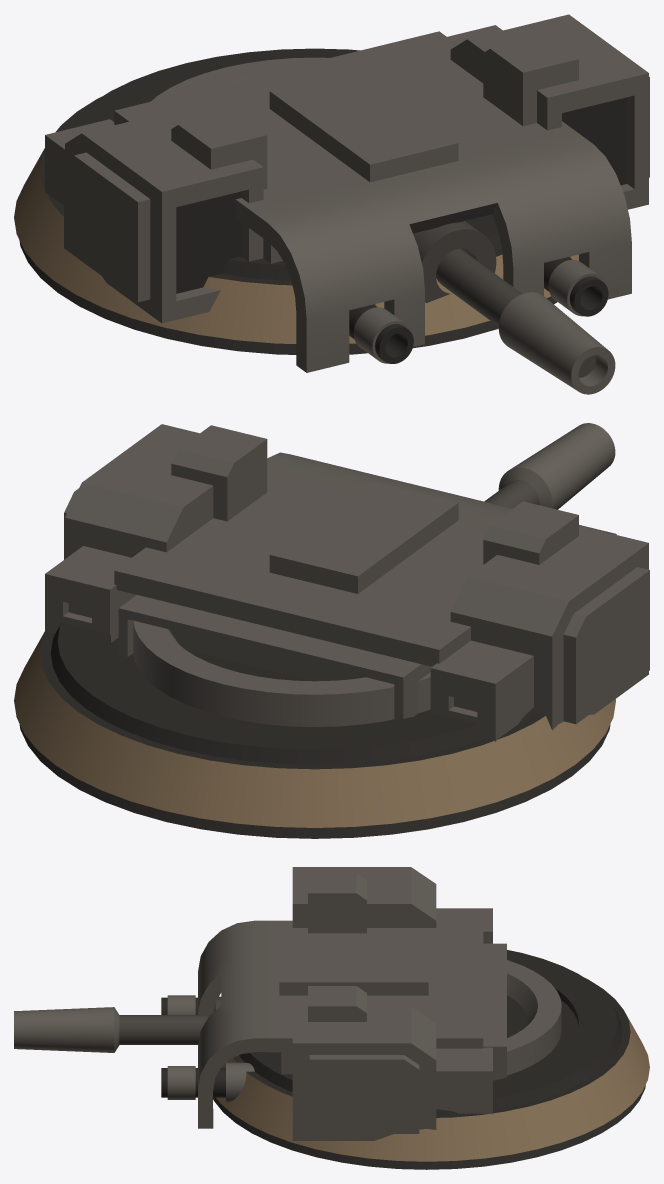
Rendered from JT_SHIP_TURRET.fbx.
3 renders of one model, top to bottom at view 1: azimuth 30°, elevation 25°; view 2: azimuth 150°, elevation 25°; view 3: azimuth 270°, elevation 25°, orthographic. The views are drawn at different scales.
Parts seen in each view (by area): view 1: Cube.035, Cube.109, Cylinder.083, Cylinder.092, Cylinder.211; view 2: Cylinder.083, Cube.109, Cube.035, Cube.108, Cylinder.092; view 3: Cylinder.083, Cube.109, Cube.035, Cylinder.092, Cube.108, Cylinder.211.
Part boxes in pixels (box(x1,y1,x2,y2)): Cube.035: box(114, 31, 631, 372); Cube.109: box(45, 14, 649, 323); Cylinder.083: box(14, 48, 578, 354); Cylinder.092: box(413, 221, 615, 394); Cylinder.211: box(349, 256, 608, 363); Cylinder.083: box(14, 620, 615, 838); Cube.109: box(45, 424, 649, 741); Cube.035: box(114, 452, 616, 666); Cube.108: box(118, 595, 431, 720); Cylinder.092: box(484, 423, 615, 509); Cylinder.083: box(213, 950, 649, 1169); Cube.109: box(292, 867, 492, 1140); Cube.035: box(198, 920, 483, 1128); Cylinder.092: box(14, 996, 221, 1052); Cube.108: box(281, 943, 506, 1080); Cylinder.211: box(161, 995, 254, 1102).
Bounding box in the file's own units: 212 × 71.67 × 302.
